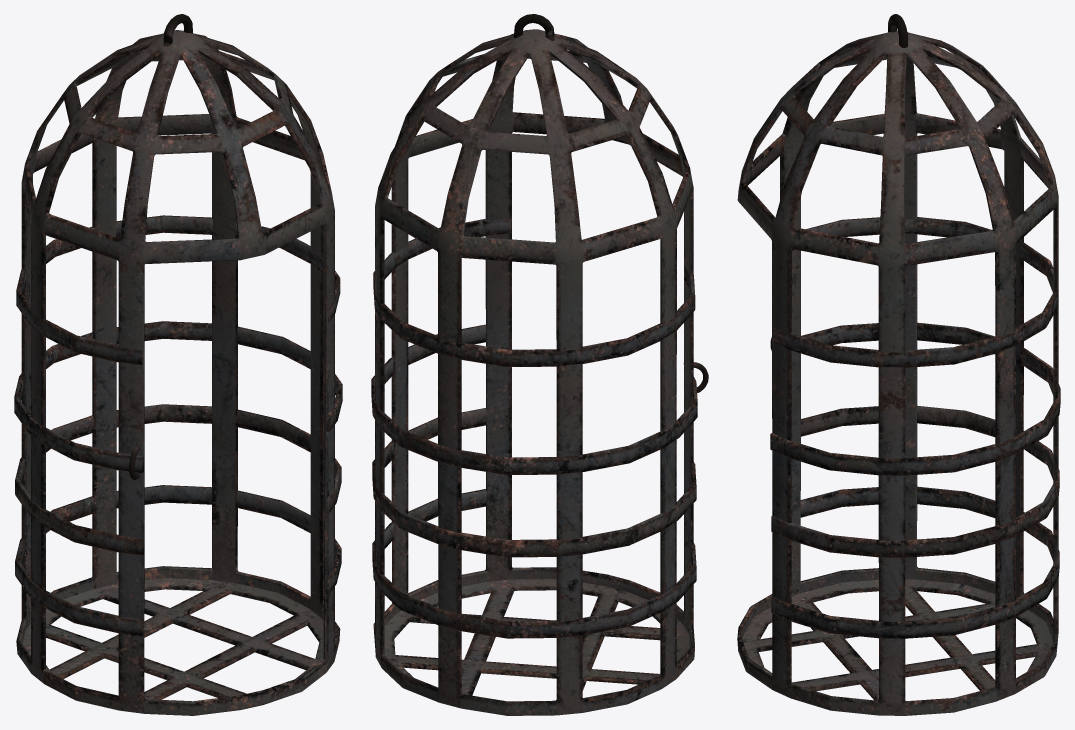
File: Cage.fbx
3 renders of one model, left to right at view 1: azimuth 30°, elevation 25°; view 2: azimuth 150°, elevation 25°; view 3: azimuth 270°, elevation 25°, orthographic.
Parts seen in each view (by area): view 1: Cage; view 2: Cage; view 3: Cage.
Boxes of the visible parts, x1,y1,x2,y2 form: Cage: (14,14,342,715); Cage: (371,14,708,715); Cage: (737,14,1060,715).
Size of the model in its own units: 97.17 by 209 by 96.35.
